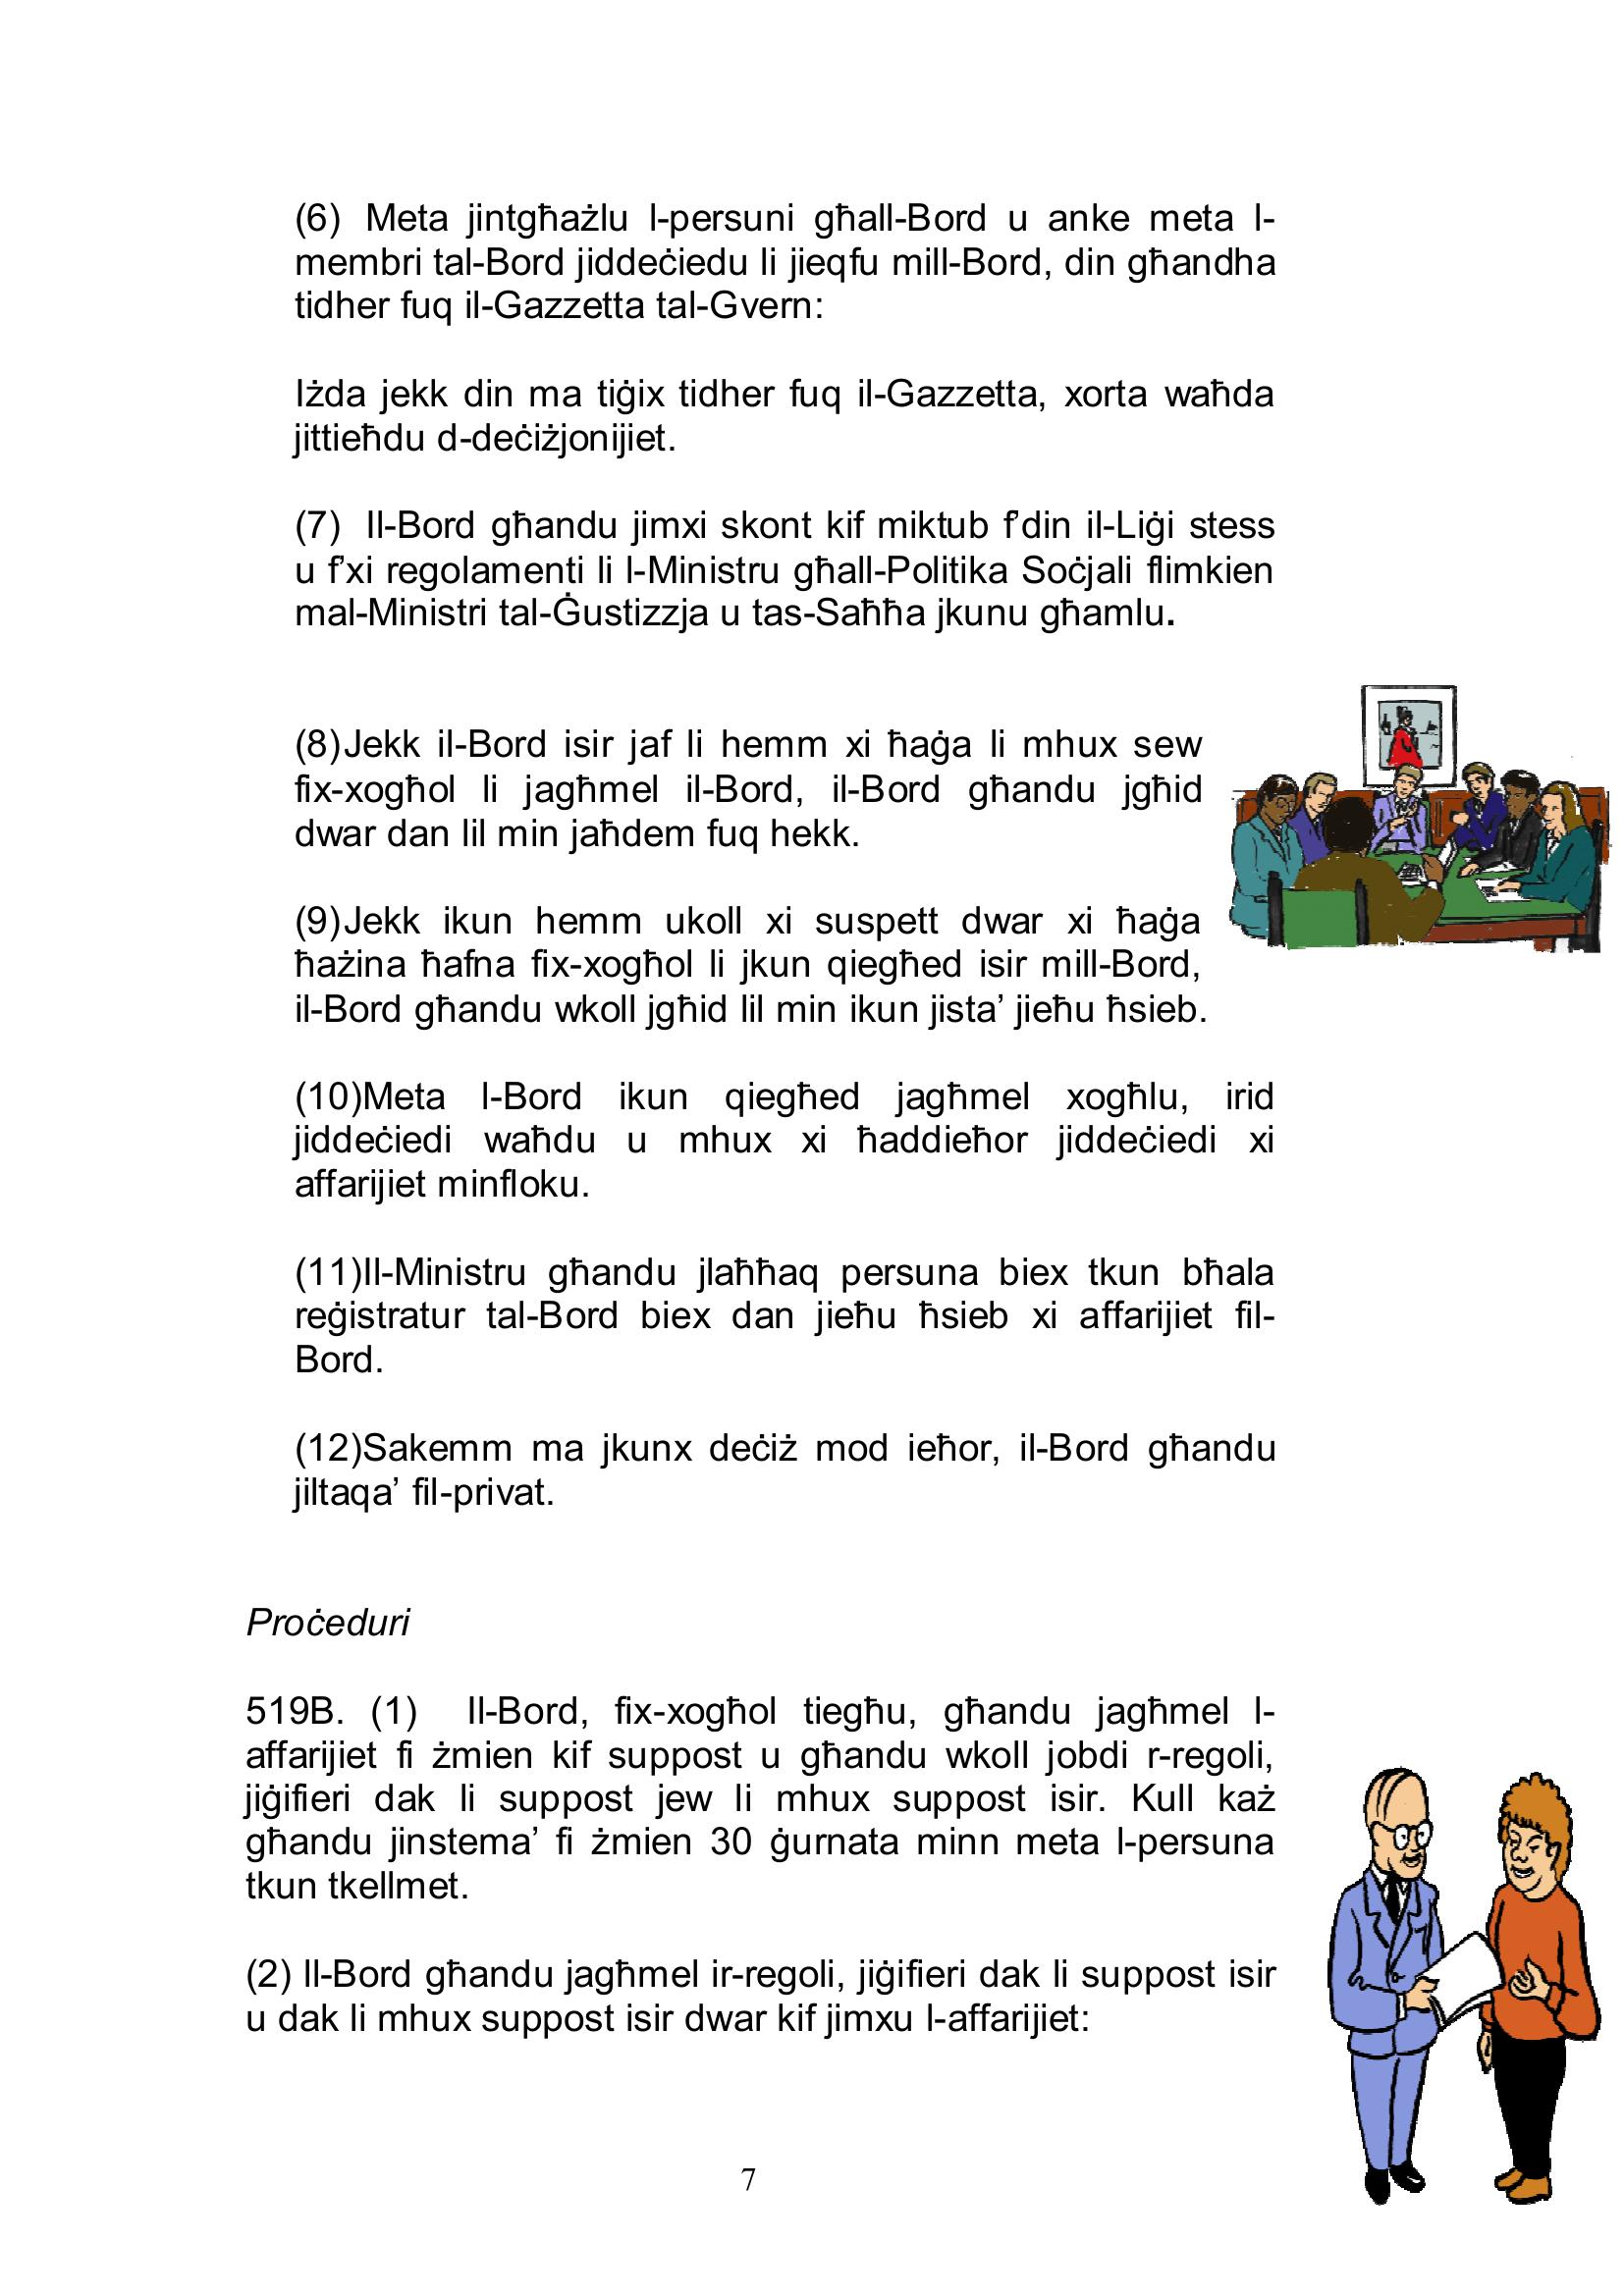text: (221, 177, 1299, 2059)
whiteout: (1213, 653, 1624, 970)
